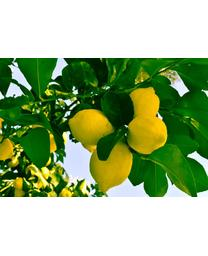lemon: (89, 143, 133, 191), (67, 110, 119, 144), (128, 113, 169, 152), (130, 86, 161, 119)
